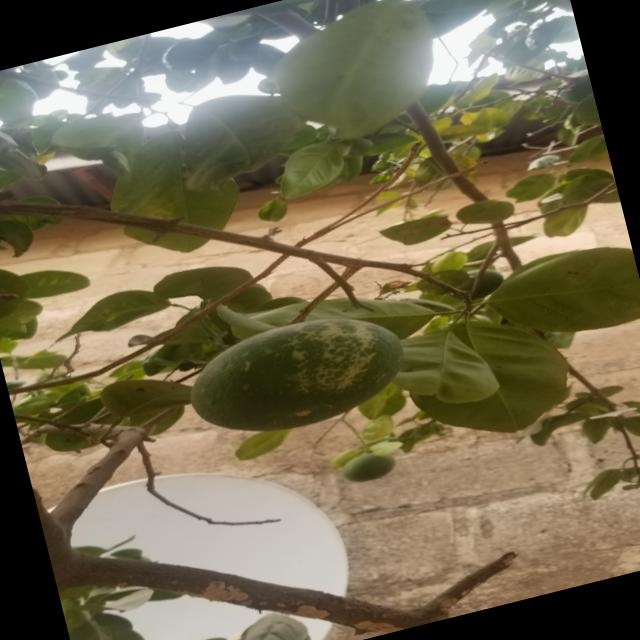agrume: (152, 284, 448, 480)
